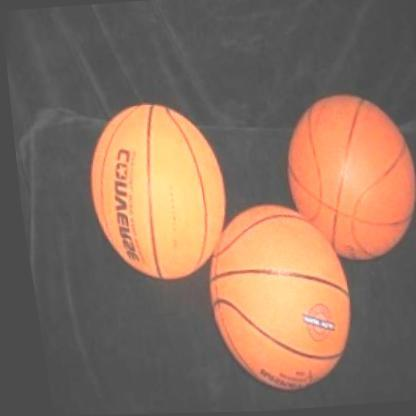basketball: (191, 198, 354, 397), (72, 96, 230, 285), (268, 90, 416, 265)
